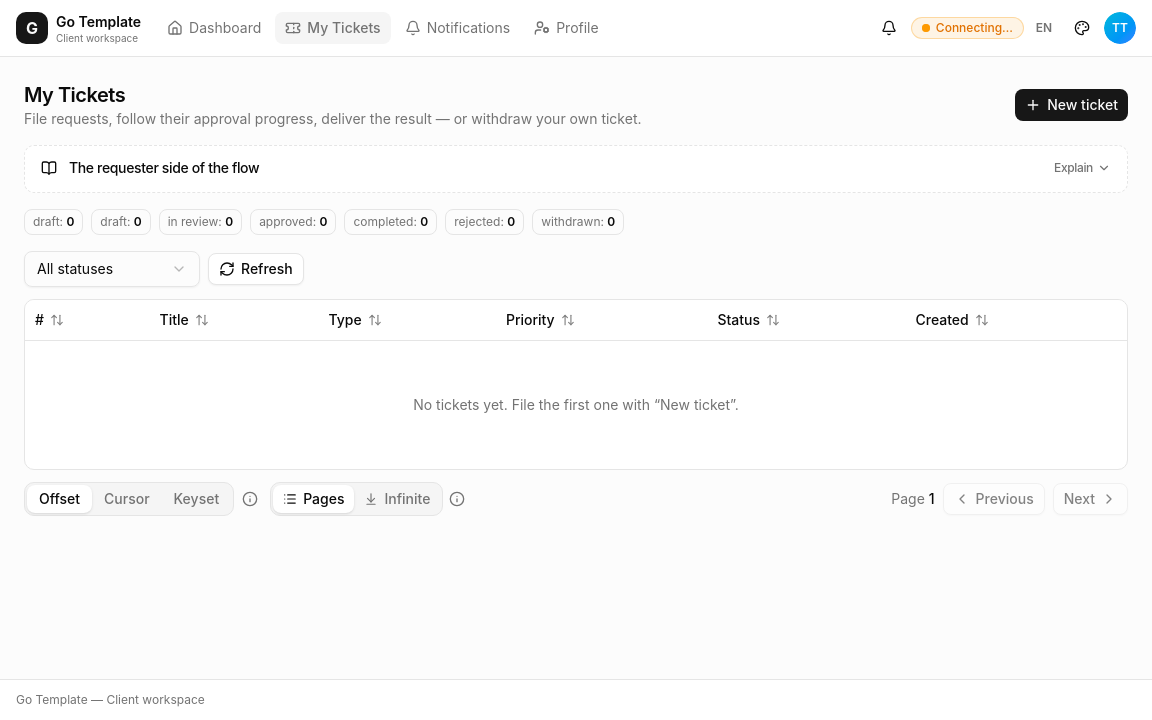
Test case: tickets page › surfaces a failed creation as a problem+json toast
The image size is (1152, 720).
Check: the heading "My Tickets" is shown, box [24,83,125,107]
Click the button "New ticket" at (1072, 105), box [1015,89,1128,121]
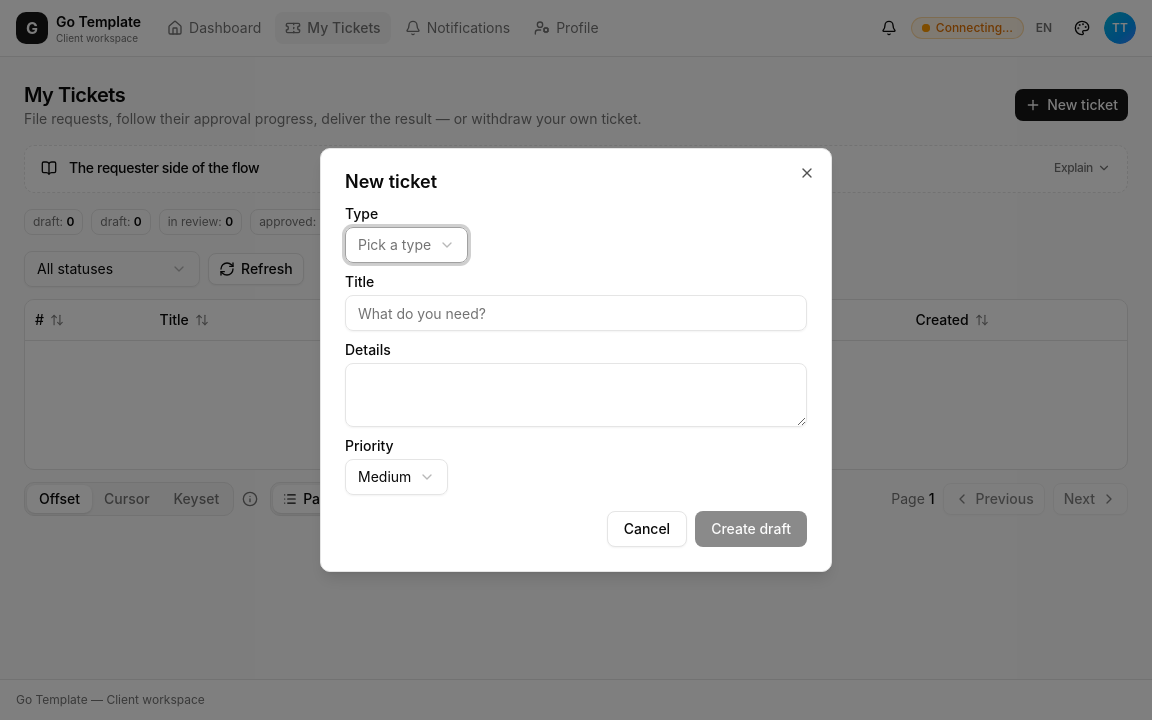
Click the dropdown named "Ticket type" at (407, 245), box [345,227,468,263]
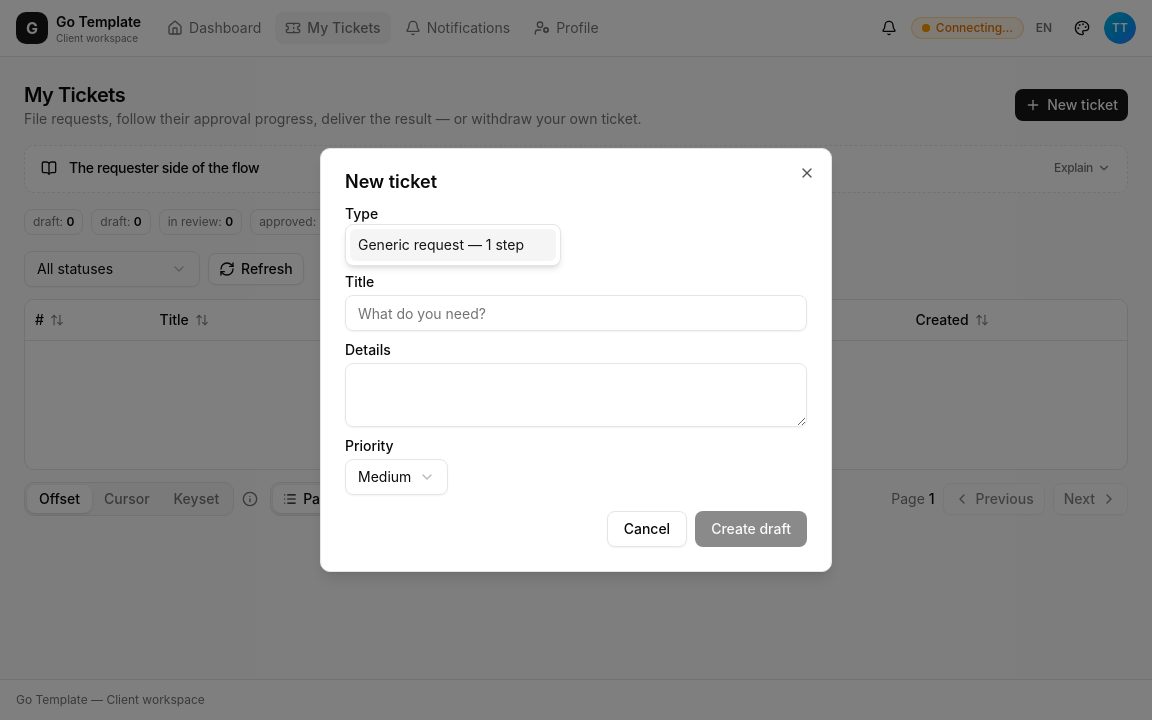
Click the option "Generic request — 1 step" at (453, 245), box [350,229,556,261]
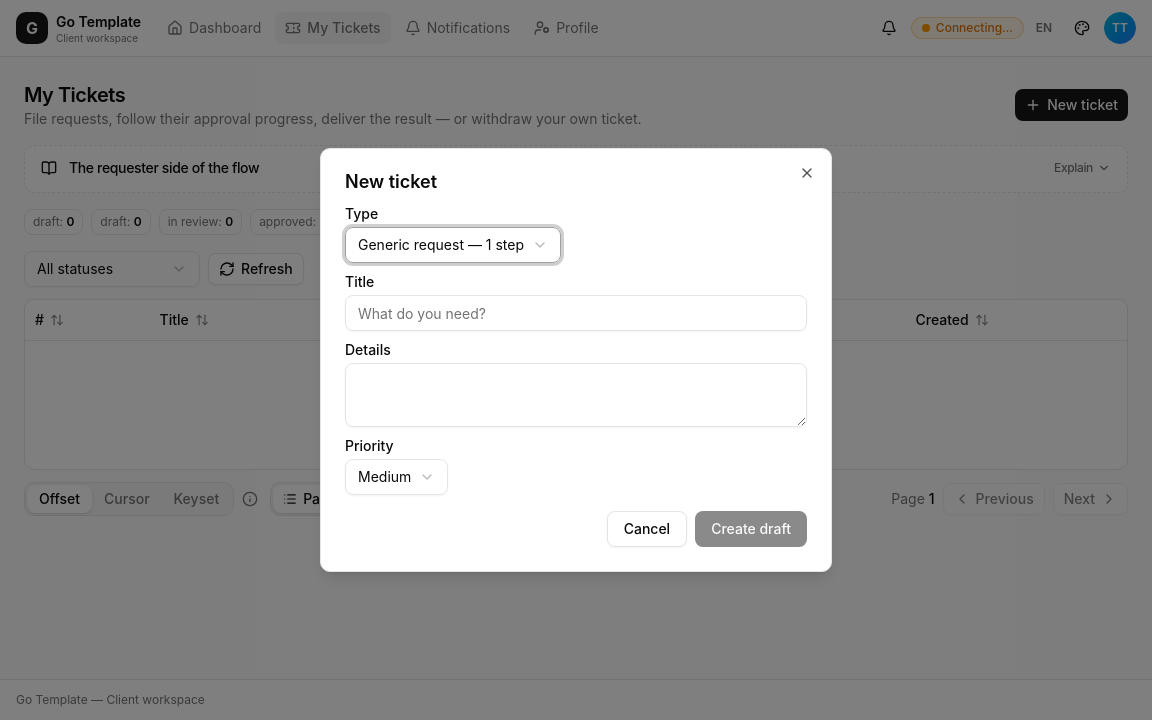
Type "New desk chair" into the field labelled "Title" at (576, 313), box [345,295,807,331]
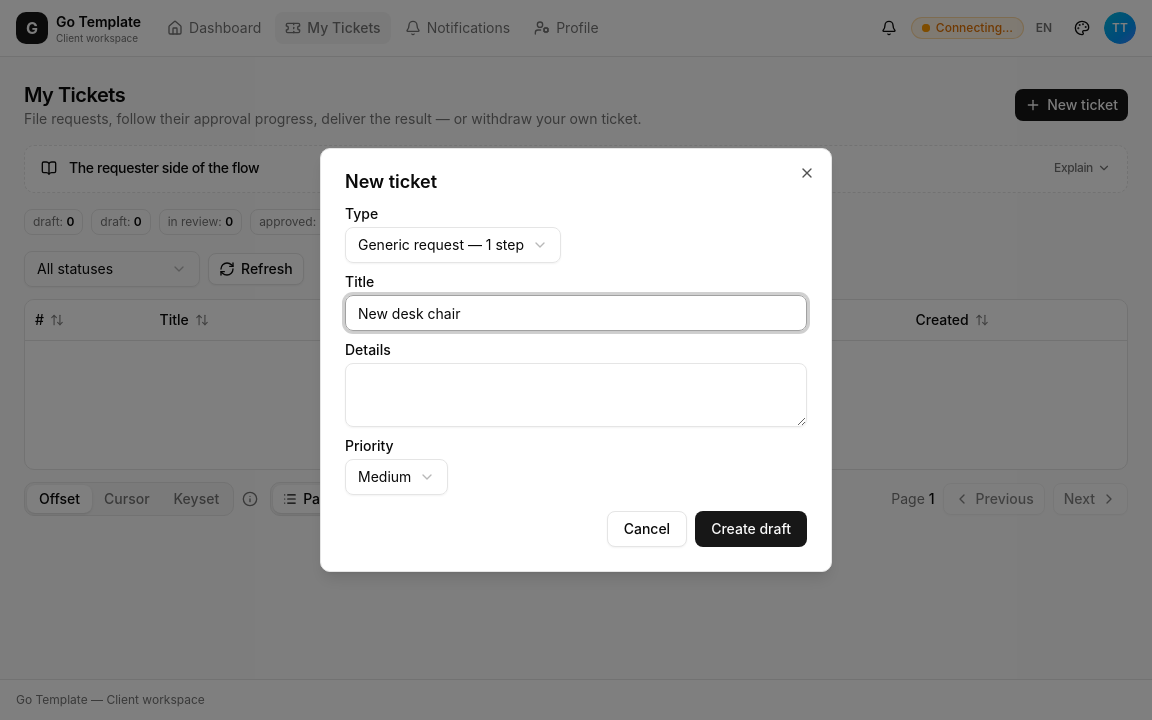
Click the button "Create draft" at (751, 529), box [695,511,807,547]
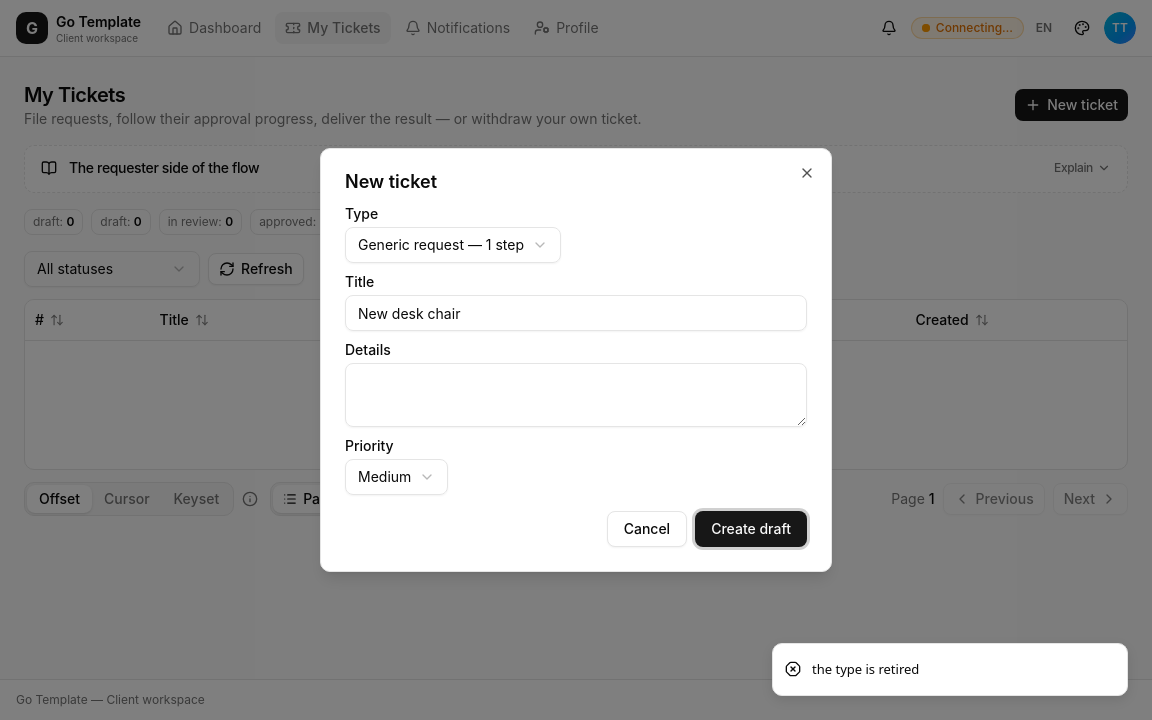
Check: the text "the type is retired" is shown, box [812,660,919,679]
